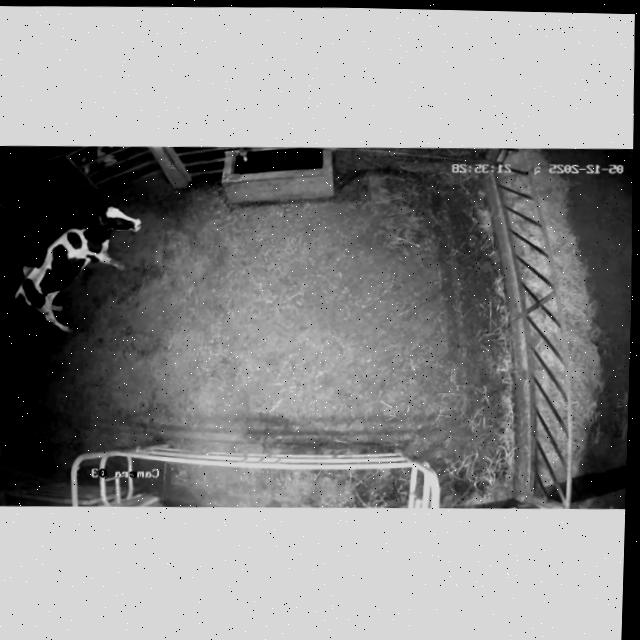stand: (14, 206, 141, 331)
